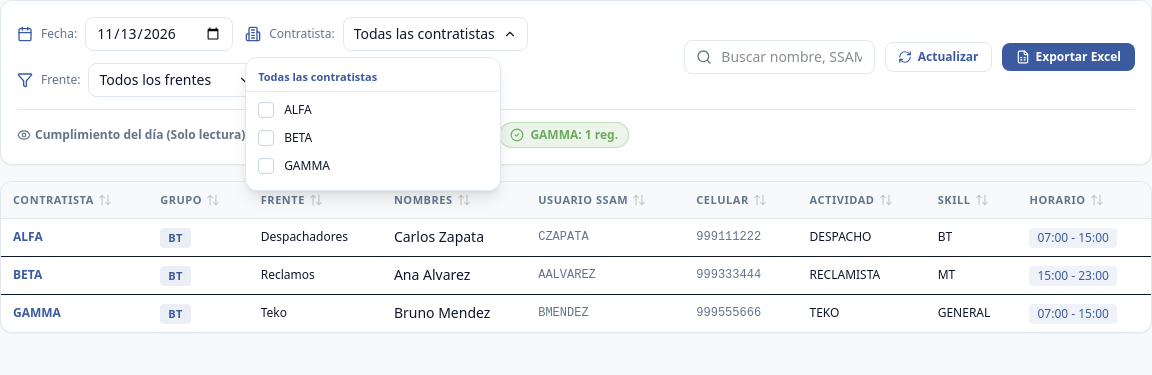
Scenario: AdminTurnsView multi-select filters and table sorting › filters by multiple contratistas and multiple frentes
Earlier steps of the test are not shown.
Click the option "ALFA" at (373, 110), box [246,96,500,124]
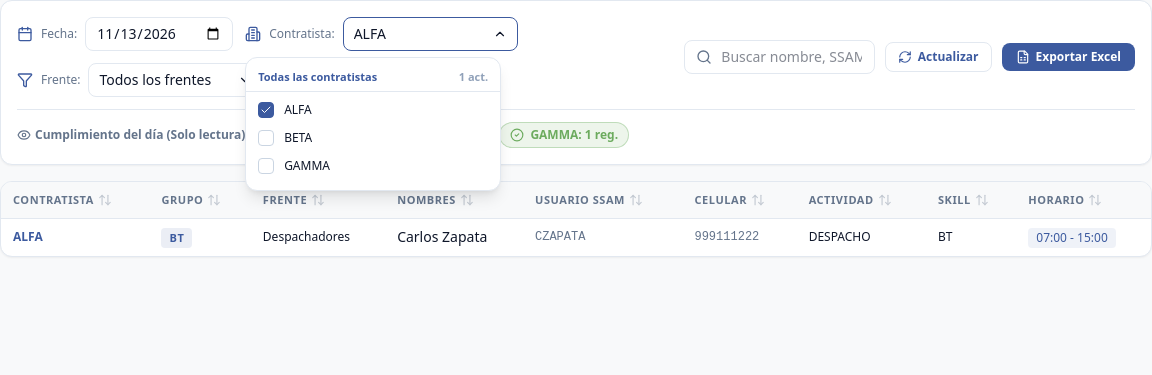
Click the option "GAMMA" at (373, 166), box [246,152,500,180]
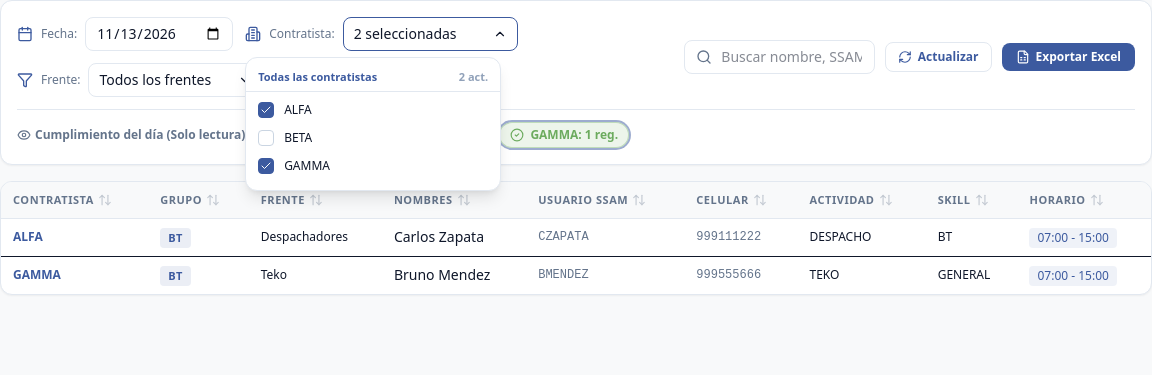
Expected: the text "Carlos Zapata" is shown, [394,227,484,246]
Now the text "Bruno Mendez" is shown, box [394,265,490,284]
Open Frente multi-select and select Despachadores and Reclamos
Click the button with aria-label "Filtrar por Frente" at (176, 80), box [88,63,264,97]
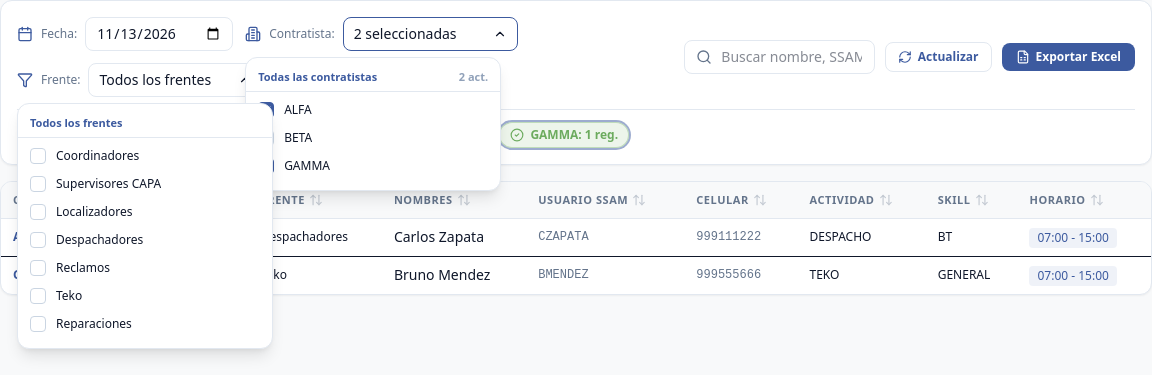
Click the option "Despachadores" at (145, 240), box [18,226,272,254]
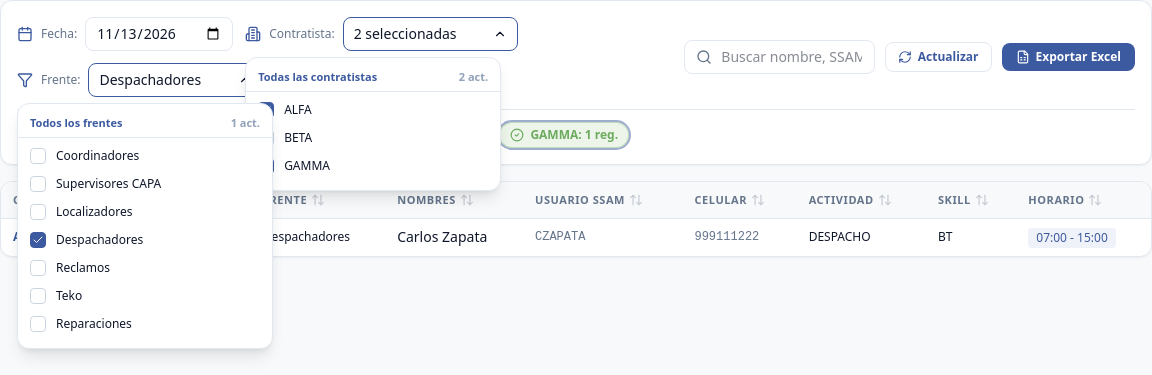
Click the option "Reclamos" at (145, 268), box [18,254,272,282]
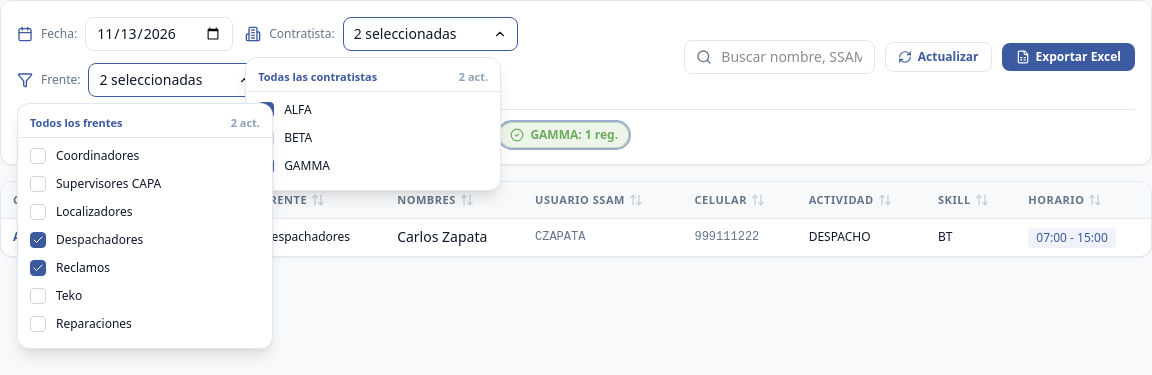
Expected: the text "Carlos Zapata" is shown, [397,227,487,246]
Expected: the text "Ana Alvarez" is not shown
Reset Frente to all
Click the button "Todos los frentes" at (76, 123), box [30,116,122,131]
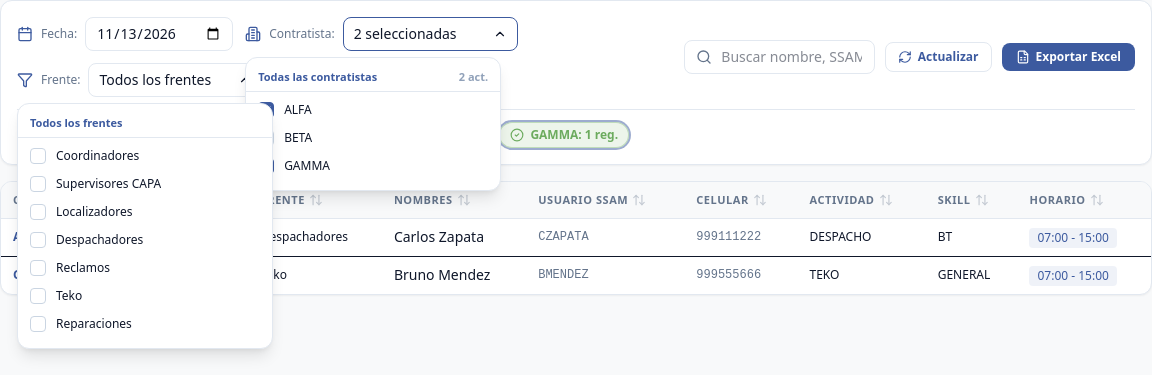
Now the text "Bruno Mendez" is shown, box [394,265,490,284]
